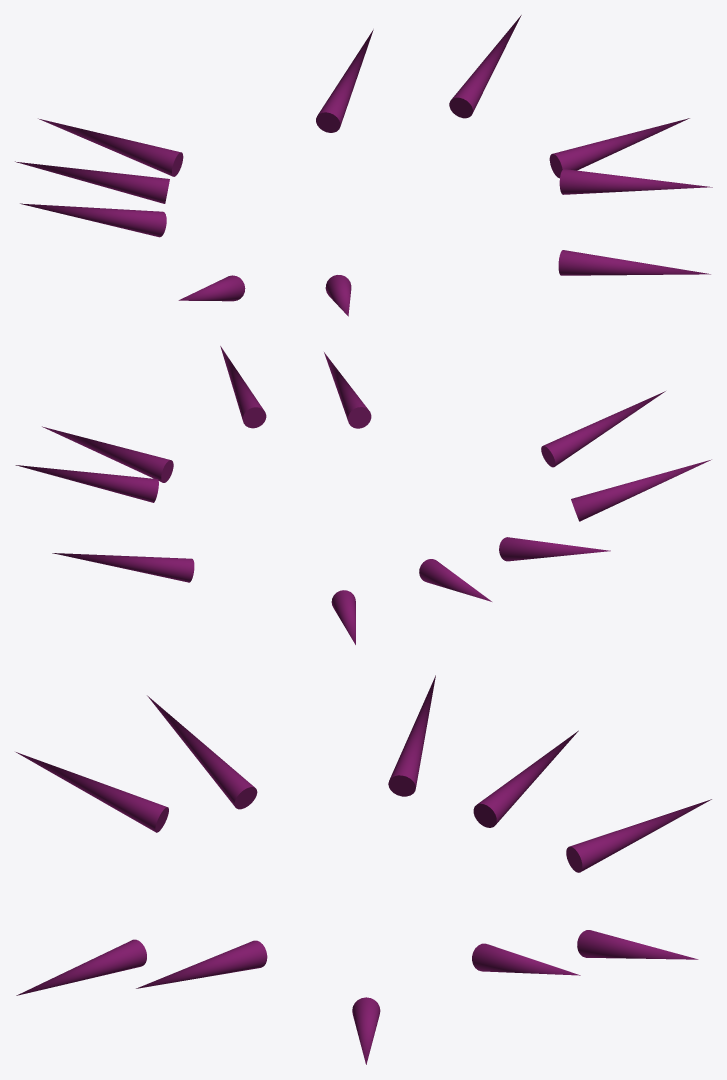
Rendered from Cillia.fbx.
3 renders of one model, top to bottom at view 1: azimuth 30°, elevation 25°; view 2: azimuth 150°, elevation 25°; view 3: azimuth 270°, elevation 25°, orthographic. The views are drawn at different scales.
Parts seen in each view (by area): view 1: Cillia; view 2: Cillia; view 3: Cillia.
Part boxes in pixels (box(x1,y1,x2,y2)): Cillia: box(15, 15, 712, 316); Cillia: box(15, 346, 711, 644); Cillia: box(16, 675, 711, 1064).
Size of the model in its own units: 41.28 by 4.65 by 35.86.
